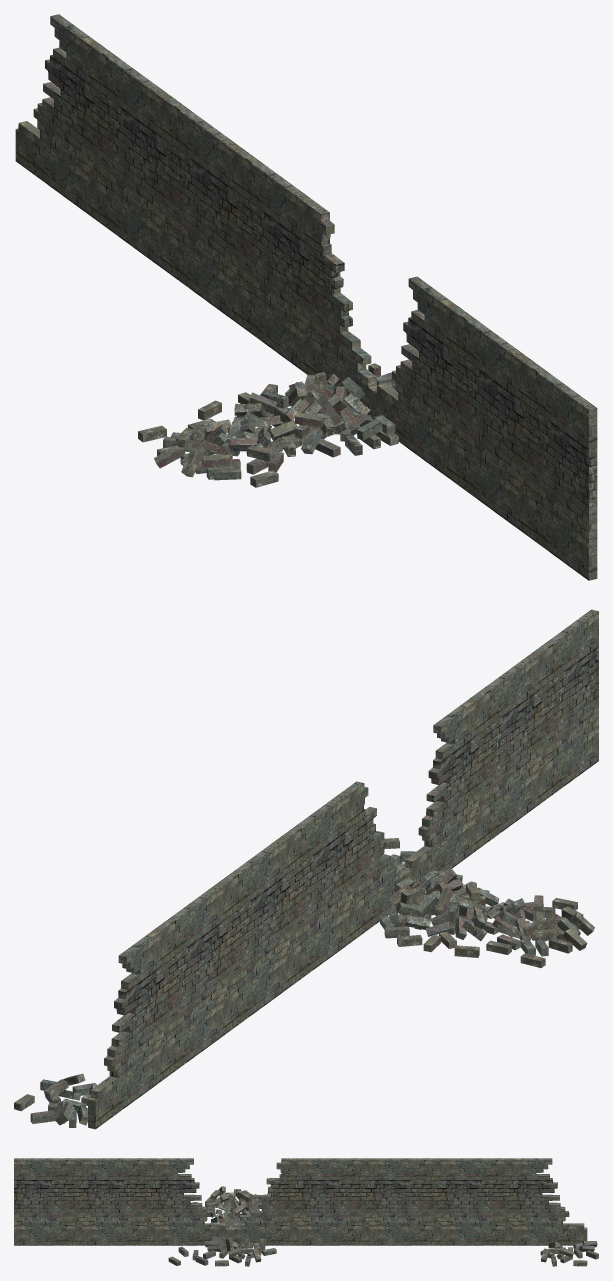
File: BrickWallBroken01a.FBX
3 views of the same model, one above another, from view 1: azimuth 30°, elevation 25°; view 2: azimuth 150°, elevation 25°; view 3: azimuth 270°, elevation 25° (orthographic). The views are drawn at different scales.
Visible parts, largest first — view 1: BrickWallBroken01a; view 2: BrickWallBroken01a; view 3: BrickWallBroken01a.
Boxes of the visible parts, x1,y1,x2,y2 form: BrickWallBroken01a: [15, 14, 597, 580]; BrickWallBroken01a: [14, 609, 598, 1129]; BrickWallBroken01a: [14, 1158, 598, 1266].
Bounding box in the file's own units: 184 × 98.91 × 614.
